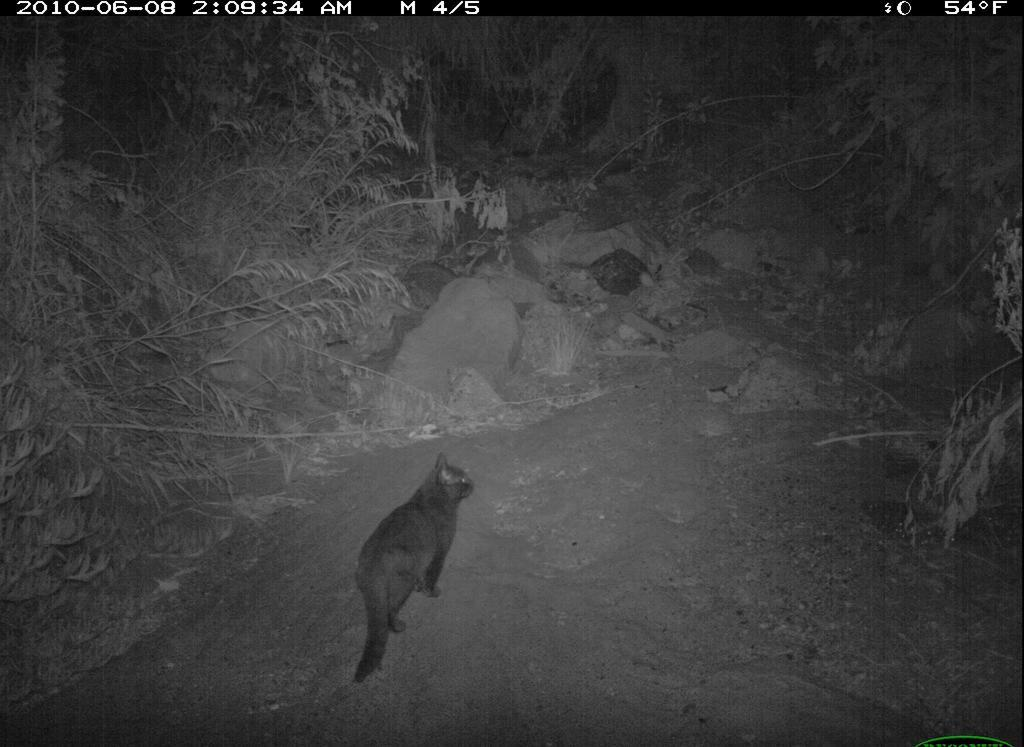cat: (346, 453, 477, 689)
